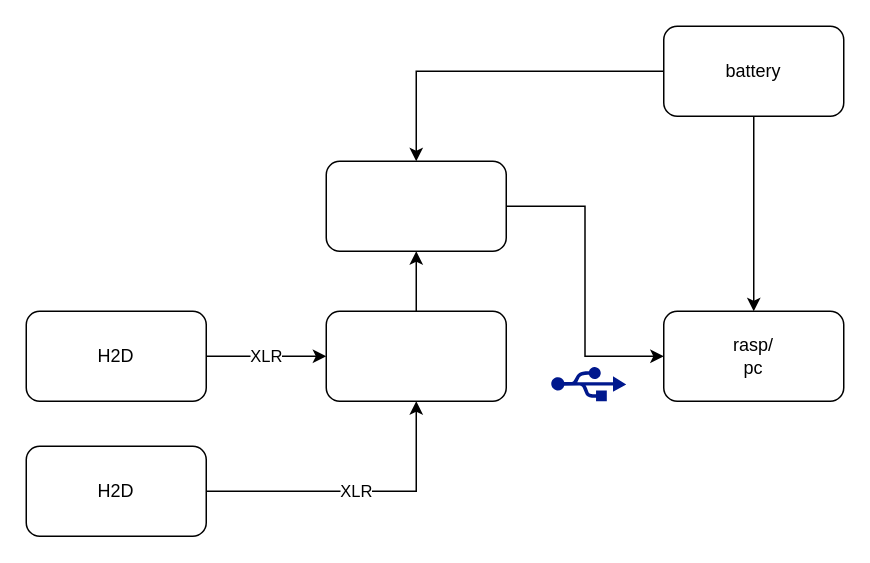
Some shapes in this 870 by 563 pixel diagram are drawn without their labels. Here are the shapes that lost their labels. From the top down, the centre of each, then its label:
pixel 415 205: usb hub
pixel 415 355: Focusrite
